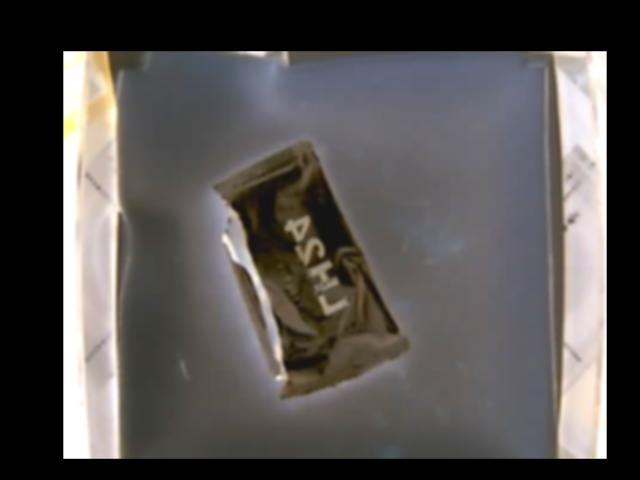Medicine: (212, 138, 407, 398)
